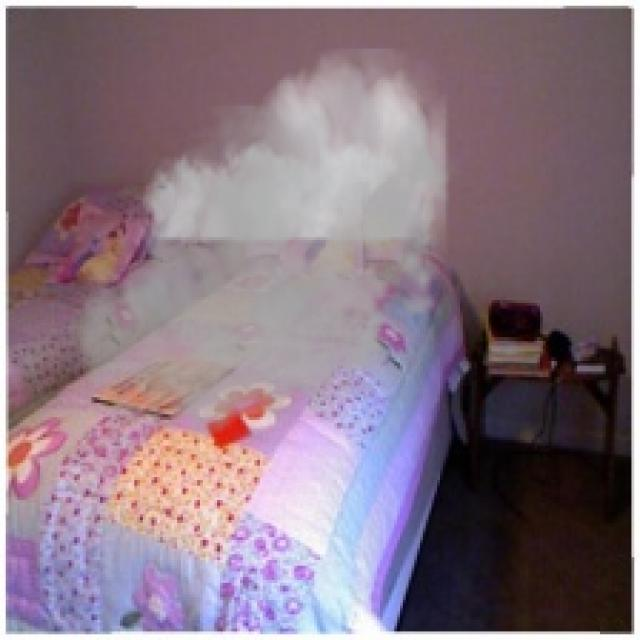smoke: (68, 49, 463, 452)
